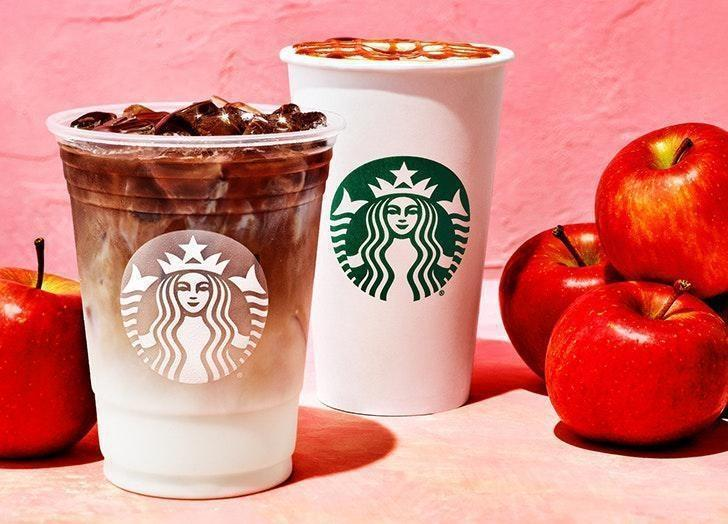cup-disposable: (46, 98, 347, 505), (277, 39, 514, 414)
